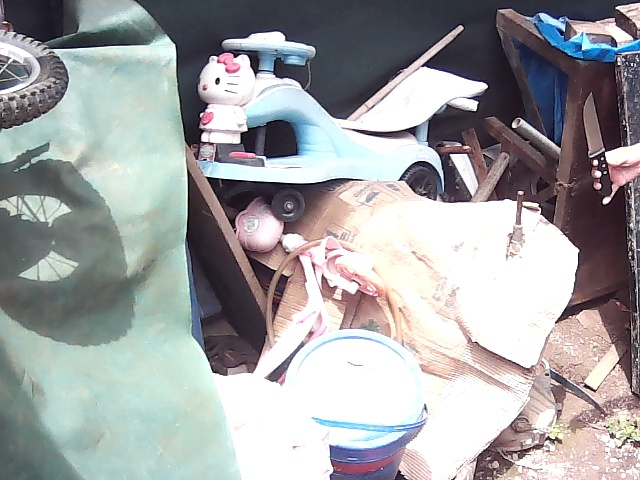cuchillo: (576, 87, 614, 166)
